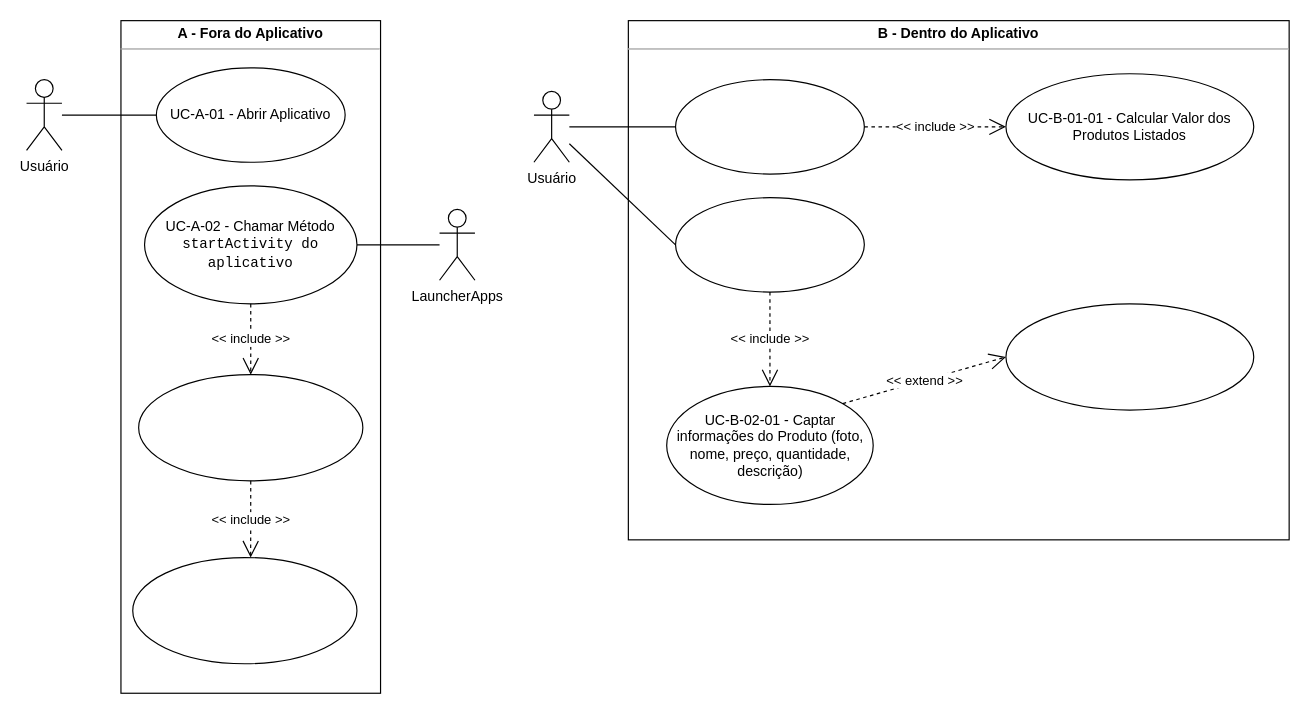
Some shapes in this 1310 by 714 pixel diagram are drawn without their labels. The centre of each missing label's shape, as x and y in pixels:
UC-A-02-01 - Mostrar Splash Screen: pixel 250 427
UC-A-02-02 - Mostrar Tela de Login ao Usuário: pixel 244 610
UC-B-01 - Listar Produtos: pixel 769 126
UC-B-02 - Inserir Produtos: pixel 769 244
UC-B-02-02 - Capturar Foto do Produto através da Câmera do Dispositivo: pixel 1129 356
